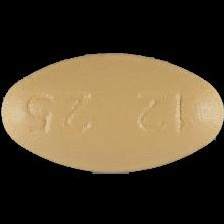62559-159: (0, 0, 224, 224)
